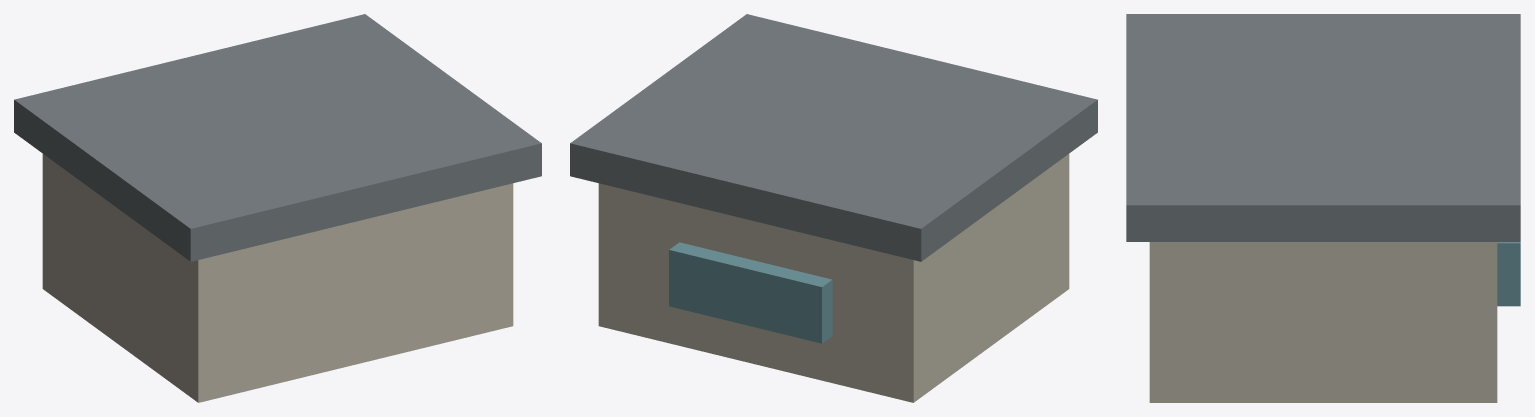
File: weighing_scale.glb
3 views of the same model, side by side, from view 1: azimuth 30°, elevation 25°; view 2: azimuth 150°, elevation 25°; view 3: azimuth 270°, elevation 25° (orthographic). The views are drawn at different scales.
Visible parts, largest first — view 1: body; view 2: body; view 3: body.
Part boxes in pixels (x1,y1,x2,y2): body: (14,14,541,402); body: (570,14,1097,402); body: (1126,14,1520,402).
Size of the model in its own units: 0.39 by 0.1975 by 0.34.
